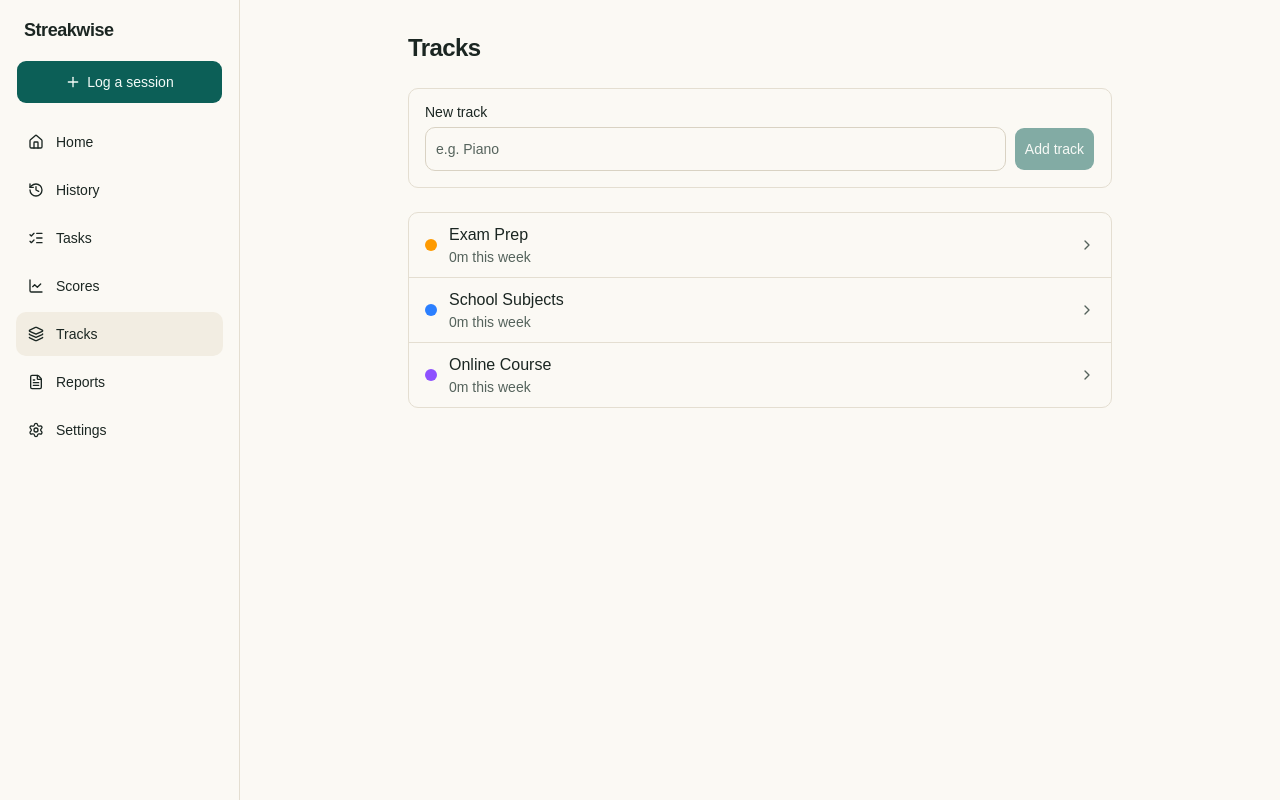
Test case: Track page (TRACK-1, TOP-1, TOP-2) › adds a new track from the Tracks screen
Type "Piano" into the field labelled "New track".
click(715, 149); type("Piano")  # box [425,127,1006,171]
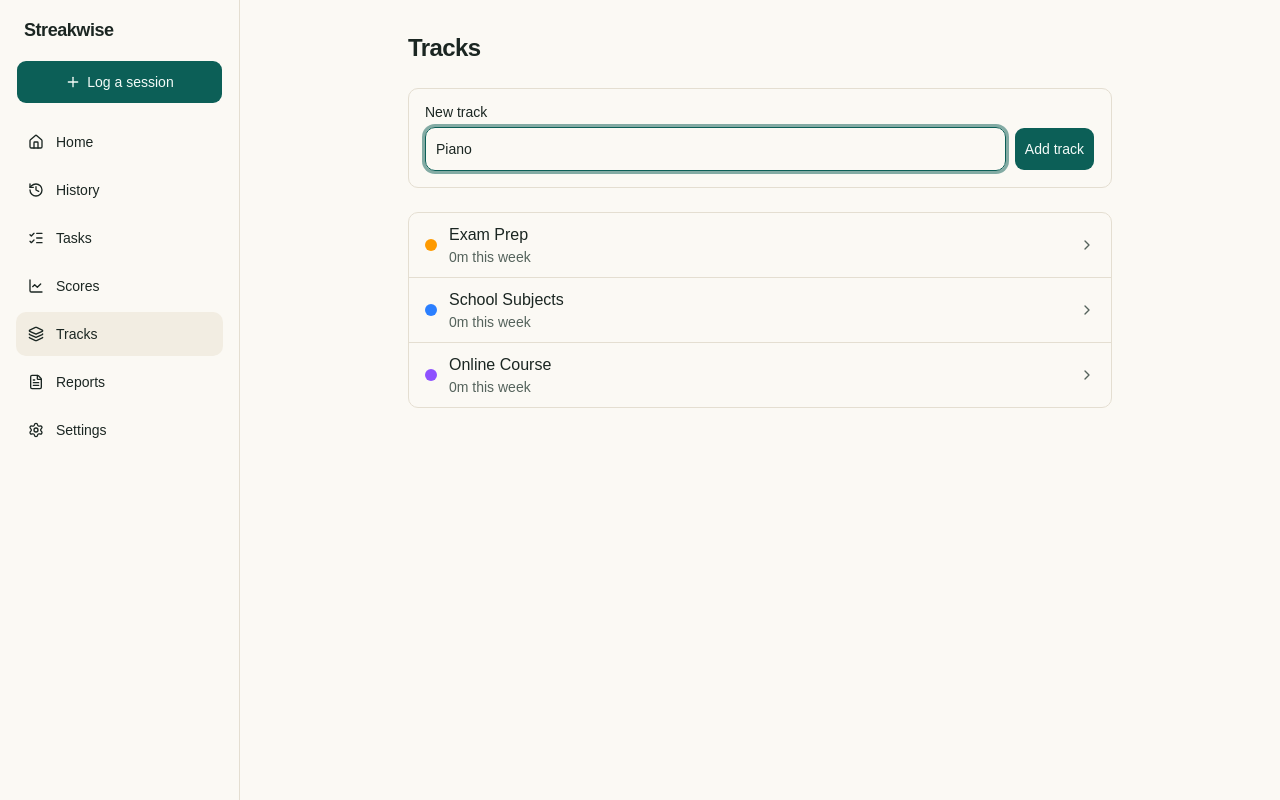
Click the button "Add track".
click(1054, 149)  # box [1014,127,1095,171]
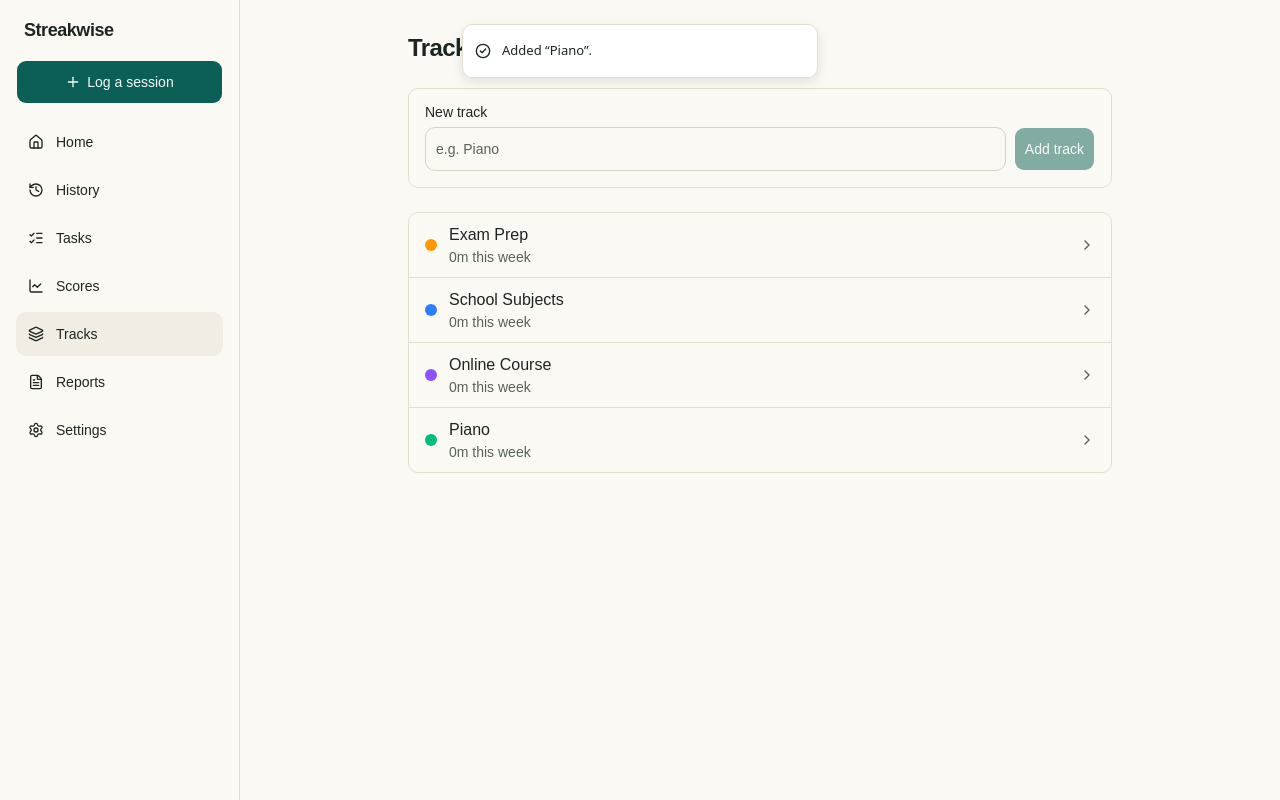
Now the link "Piano 0m this week" is shown, box [409,408,1111,472]
